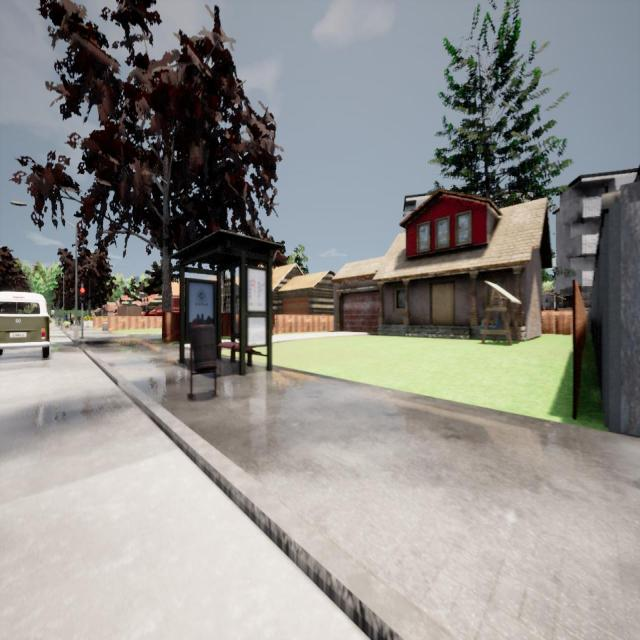Vehicle: (0, 292, 55, 358)
traffic_light: (80, 288, 86, 302)
